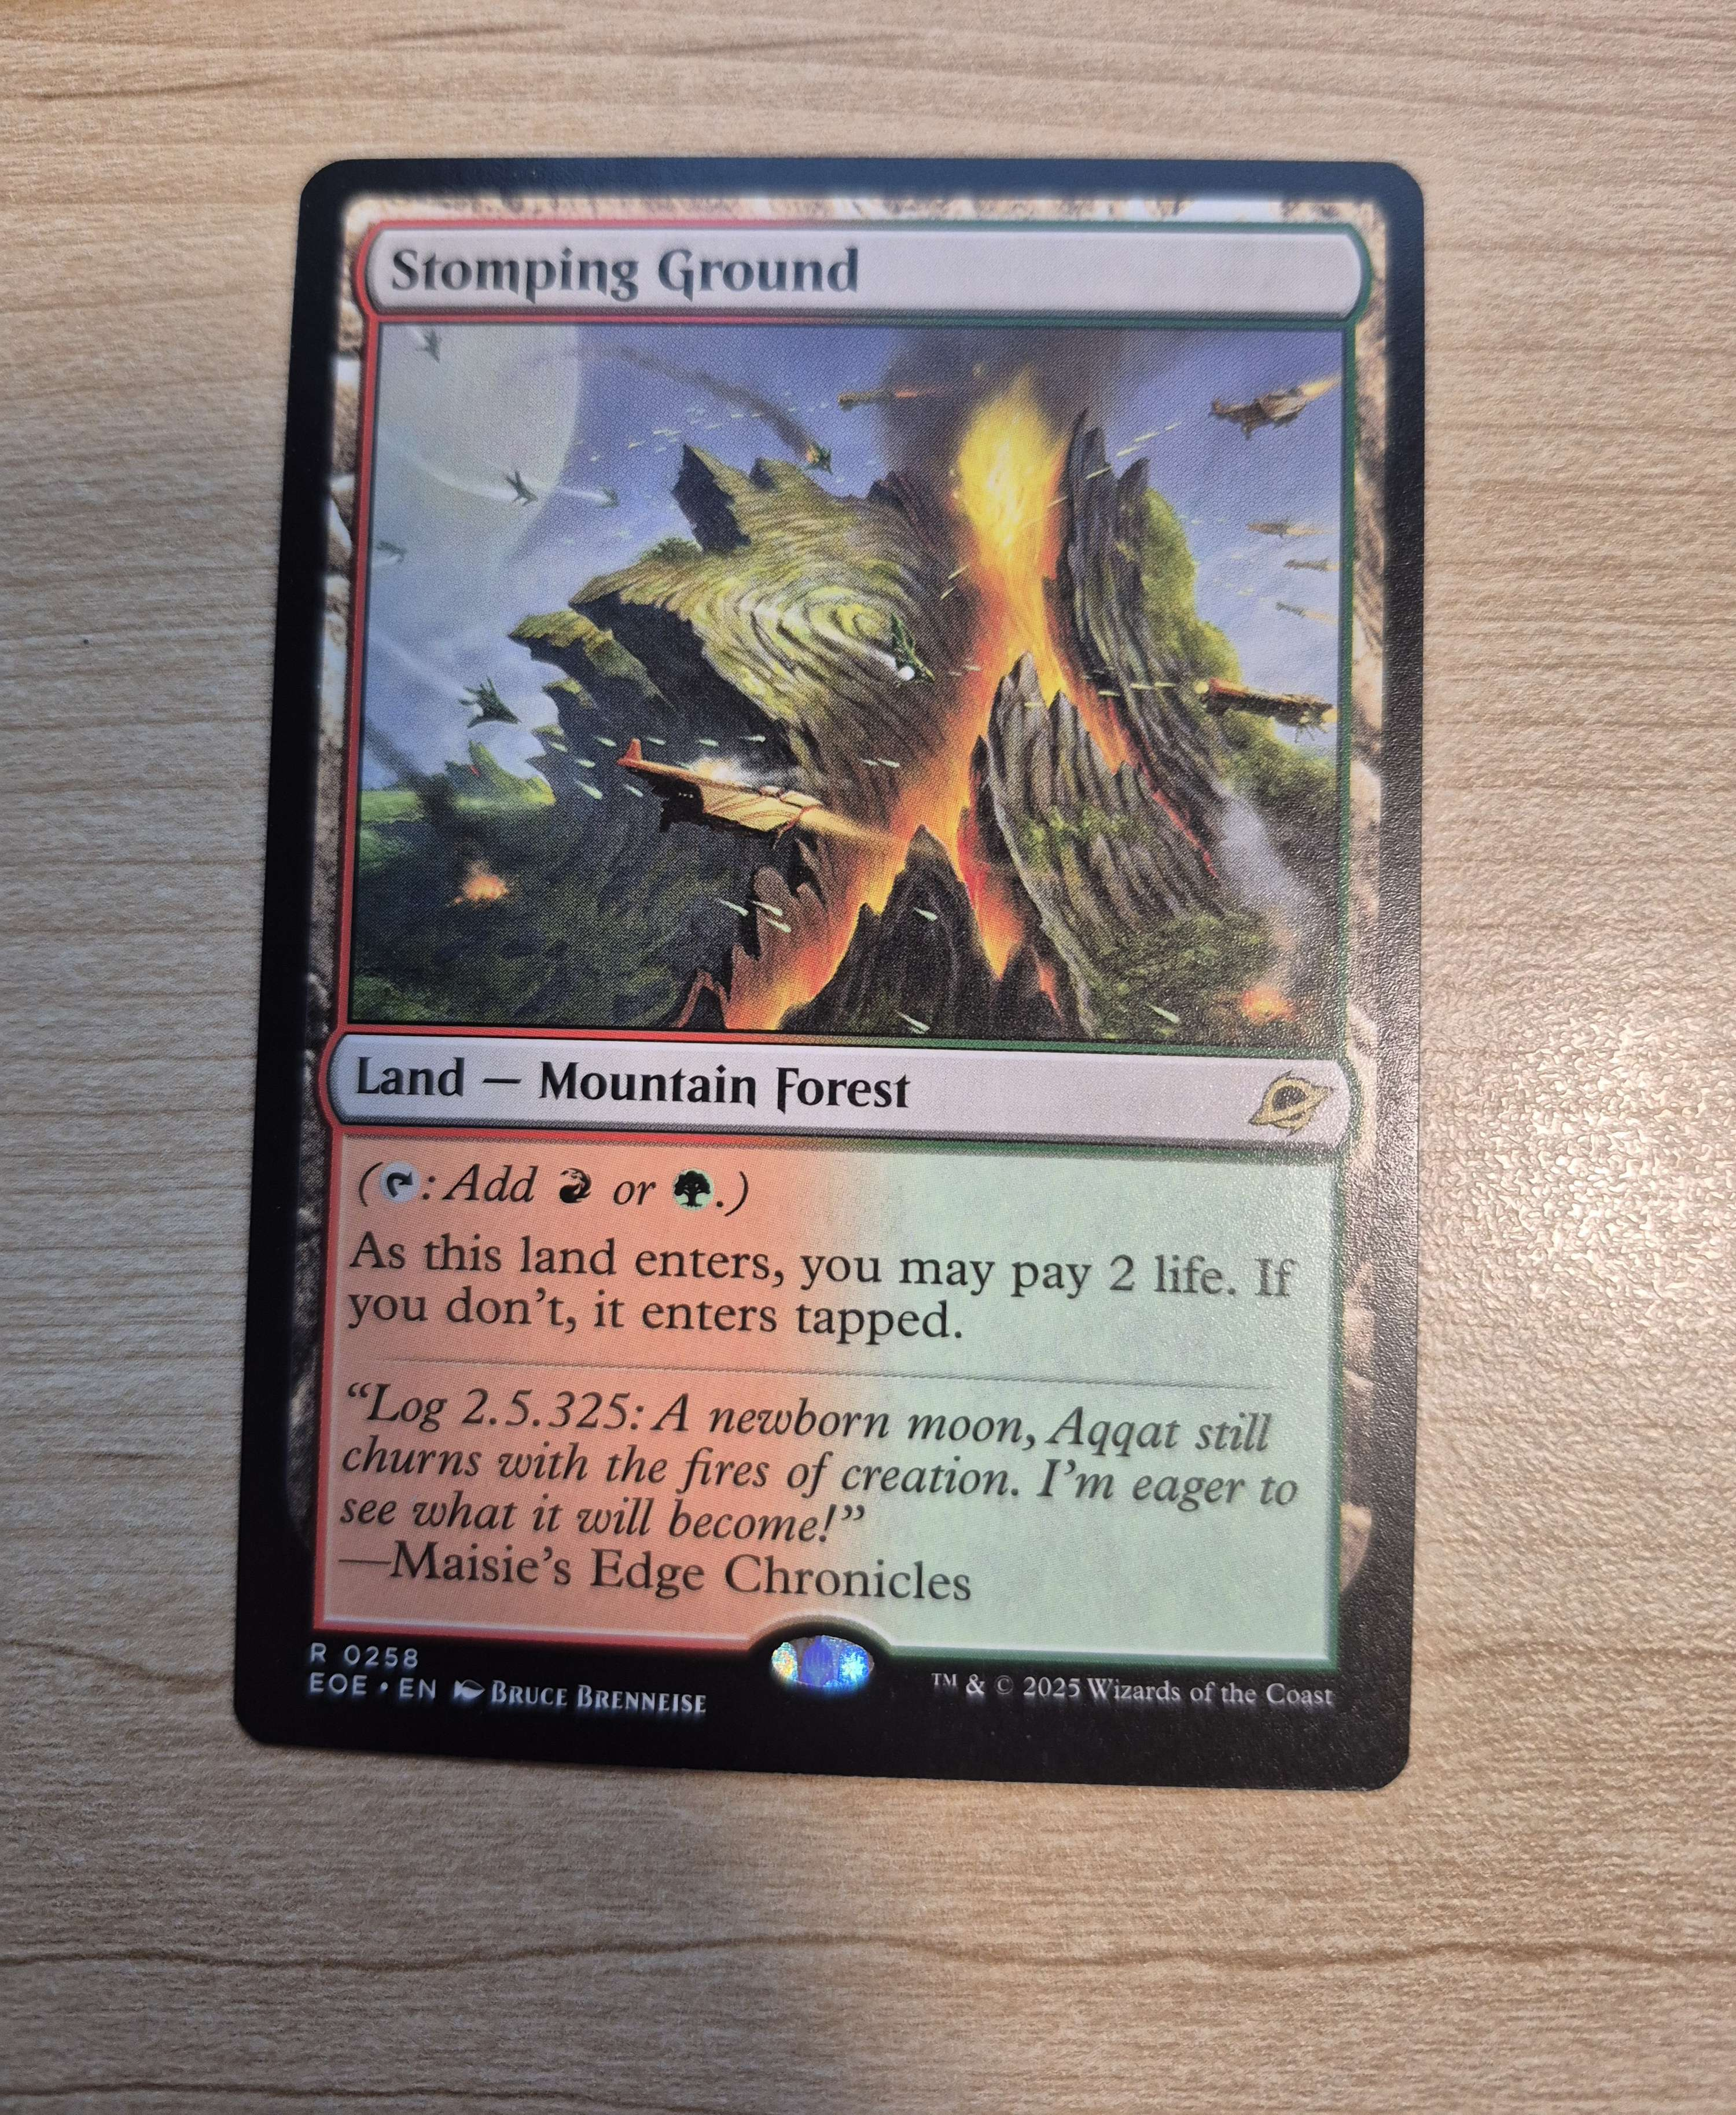mtg_card: (251, 128, 1439, 1813)
